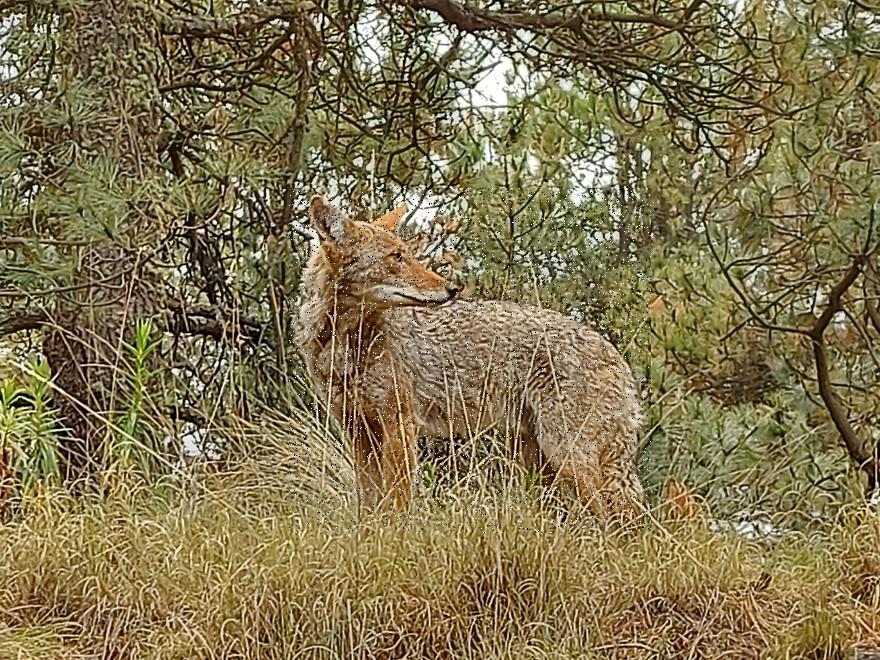Coyote: (288, 189, 650, 534)
